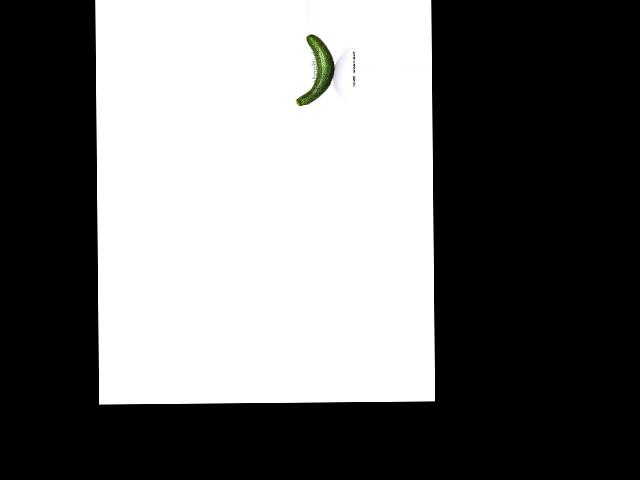cucumber: (295, 34, 334, 106)
